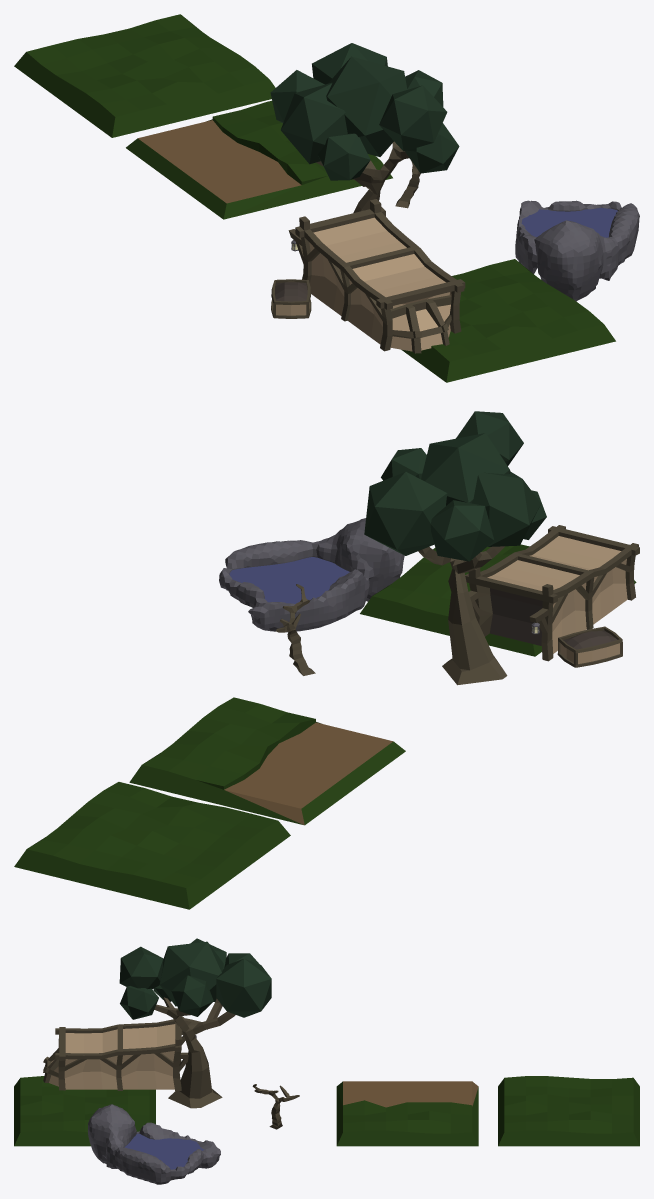
The model's file is terrain.glb.
3 views of the same model, one above another, from view 1: azimuth 30°, elevation 25°; view 2: azimuth 150°, elevation 25°; view 3: azimuth 270°, elevation 25° (orthographic). The views are drawn at different scales.
Parts seen in each view (by area): view 1: floor, leaves, Meta, path, Cube.014, lake, water, Stash, big tree; view 2: floor, path, leaves, Meta, lake, Cube.014, big tree, water, Stash, small tree; view 3: floor, path, leaves, Meta, Cube.014, lake, big tree, water, small tree.
Part boxes in pixels (x1,y1,x2,y2): floor: (14, 14, 275, 137); leaves: (270, 43, 459, 180); Meta: (288, 199, 465, 353); path: (126, 100, 392, 219); Cube.014: (401, 259, 615, 382); lake: (515, 200, 639, 301); water: (521, 207, 617, 237); Stash: (271, 279, 311, 318); big tree: (316, 141, 409, 212); floor: (14, 782, 290, 909); path: (129, 697, 405, 825); leaves: (364, 411, 546, 561); Meta: (465, 525, 639, 661); lake: (219, 518, 404, 632); Cube.014: (360, 544, 636, 656); big tree: (418, 546, 507, 685); water: (229, 557, 349, 603); Stash: (557, 626, 622, 667); small tree: (276, 584, 315, 675); floor: (498, 1076, 639, 1146); path: (336, 1081, 478, 1146); leaves: (119, 938, 271, 1019); Meta: (43, 1019, 188, 1090); Cube.014: (14, 1076, 155, 1146); lake: (88, 1104, 220, 1184); big tree: (154, 997, 235, 1108); water: (124, 1133, 204, 1169); small tree: (252, 1084, 299, 1129).
Bounding box in the file's own units: 48.41 × 28.94 × 97.
